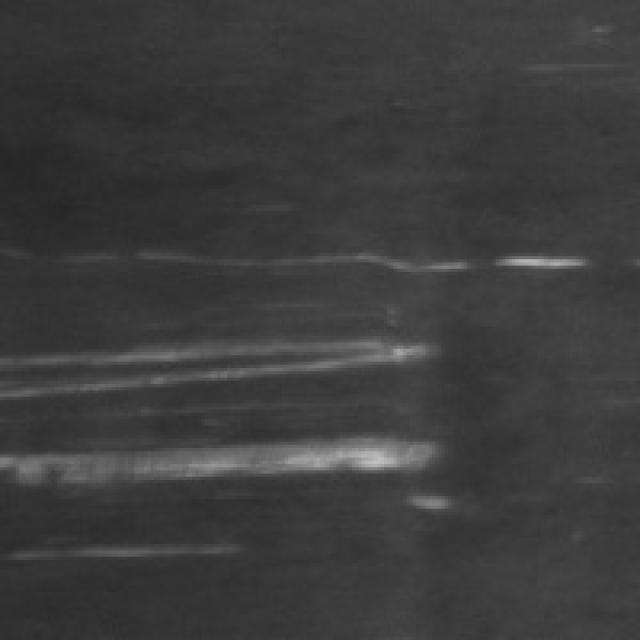scratches: (6, 419, 474, 509), (6, 324, 448, 406), (144, 237, 602, 278), (19, 528, 250, 560)
